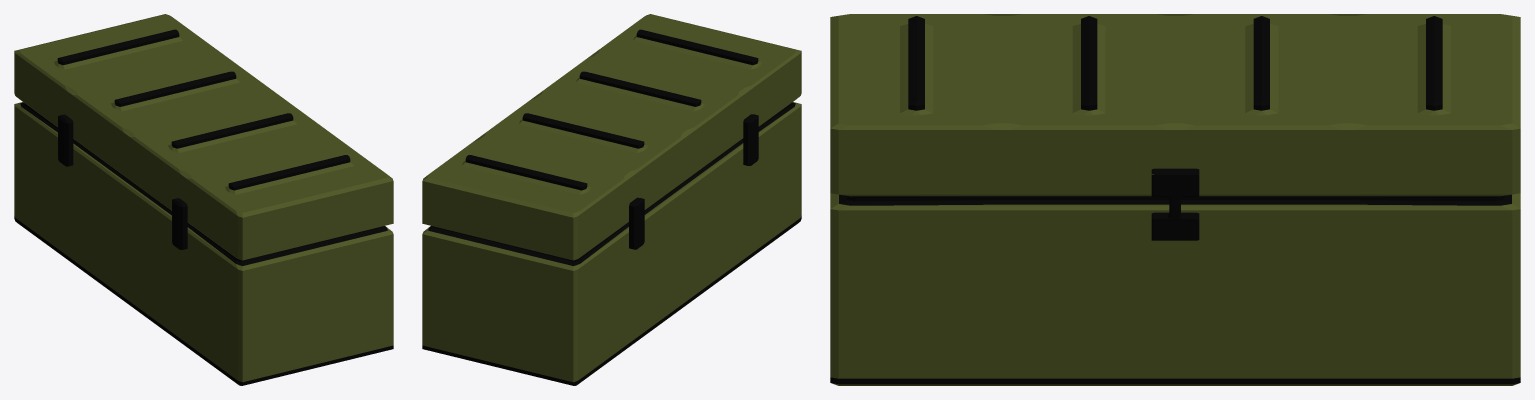
The model's file is MilitaryCrate.fbx.
3 renders of one model, left to right at view 1: azimuth 30°, elevation 25°; view 2: azimuth 150°, elevation 25°; view 3: azimuth 270°, elevation 25°, orthographic. The views are drawn at different scales.
Visible parts, largest first — view 1: Cube; view 2: Cube; view 3: Cube.
Part boxes in pixels (x1,y1,x2,y2): Cube: [14, 14, 393, 385]; Cube: [422, 14, 801, 385]; Cube: [830, 14, 1520, 385].
Bounding box in the file's own units: 86.41 × 86.85 × 200.
